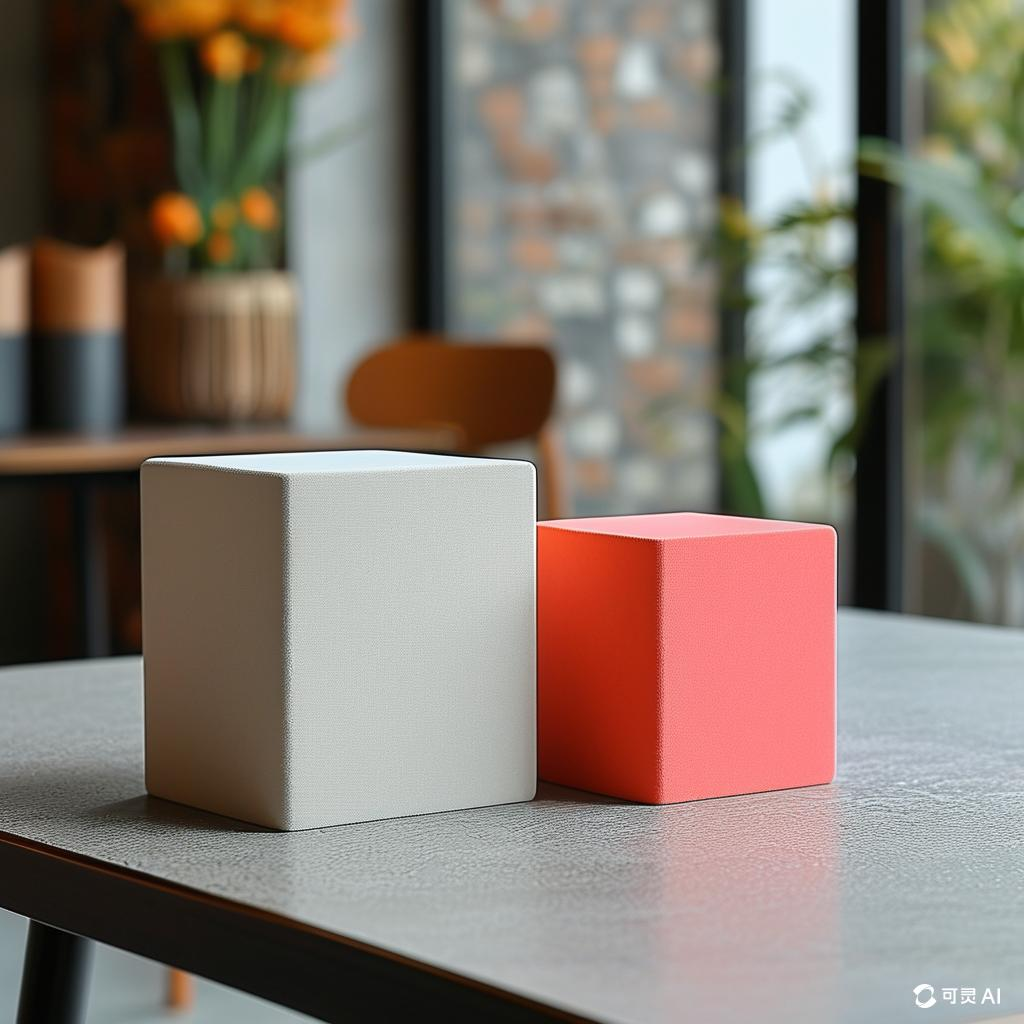cube: (138, 446, 538, 831), (535, 509, 838, 805)
